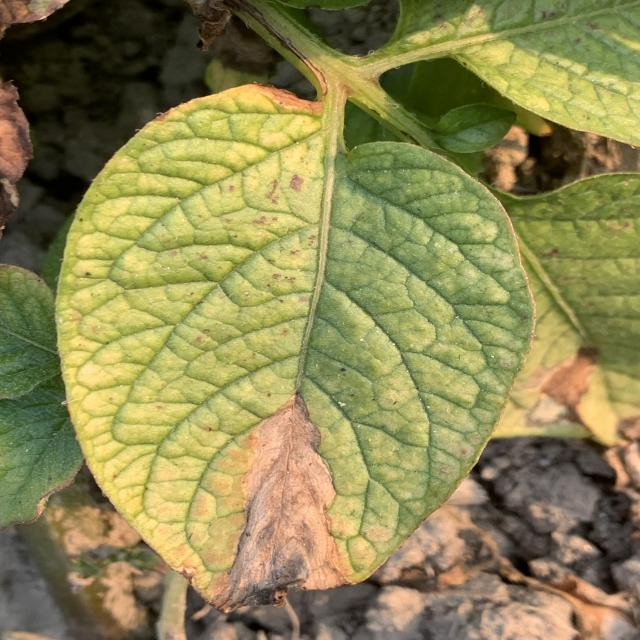lateblight: (212, 395, 347, 611)
